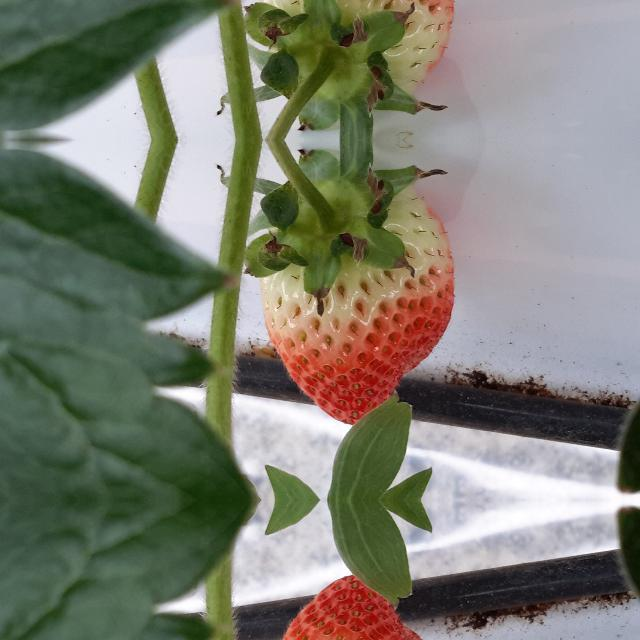Health_75: (260, 185, 456, 425), (260, 0, 456, 95), (260, 575, 456, 640)
